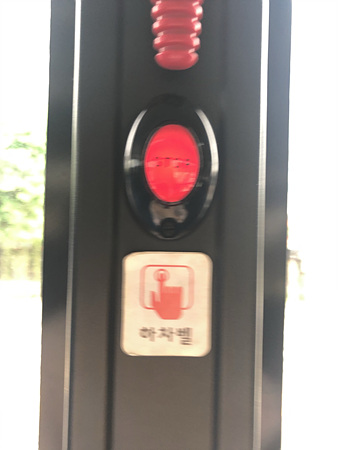bell: (124, 96, 220, 239)
